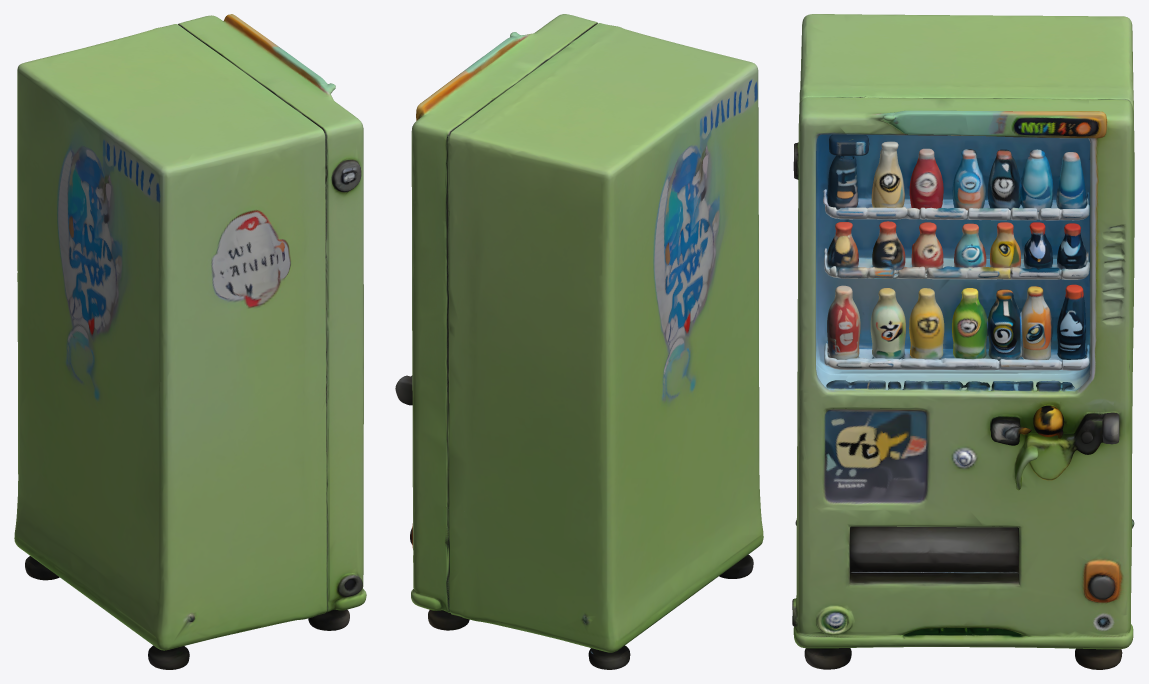
Rendered from prop-vending-machine.glb.
3 renders of one model, left to right at view 1: azimuth 30°, elevation 25°; view 2: azimuth 150°, elevation 25°; view 3: azimuth 270°, elevation 25°, orthographic. The views are drawn at different scales.
Visible parts, largest first — view 1: tripo_node_f4cec0bc-ee4a-475e-9708-c1855f86a4a7; view 2: tripo_node_f4cec0bc-ee4a-475e-9708-c1855f86a4a7; view 3: tripo_node_f4cec0bc-ee4a-475e-9708-c1855f86a4a7.
Part boxes in pixels (bbox=[...]): tripo_node_f4cec0bc-ee4a-475e-9708-c1855f86a4a7: bbox=[14, 14, 366, 669]; tripo_node_f4cec0bc-ee4a-475e-9708-c1855f86a4a7: bbox=[395, 14, 763, 669]; tripo_node_f4cec0bc-ee4a-475e-9708-c1855f86a4a7: bbox=[792, 14, 1134, 669].
Bounding box in the file's own units: 0.9447 × 2 × 1.1.
1 material, 1 textured.
